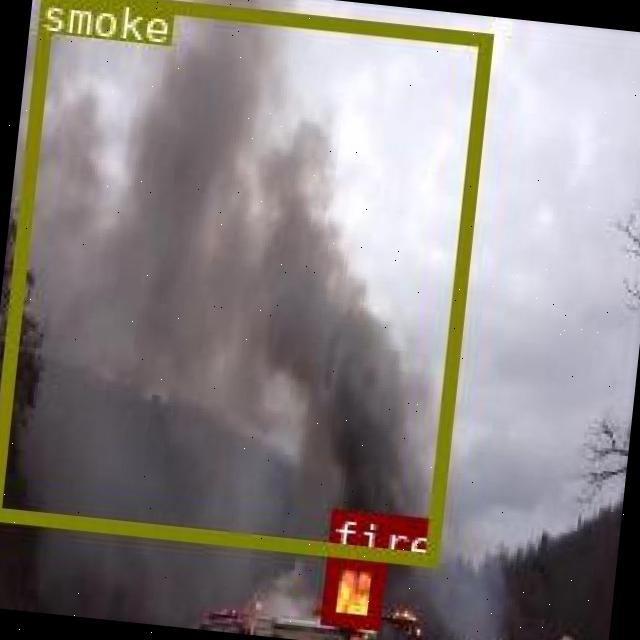fire: (319, 551, 382, 626)
smoke: (0, 0, 490, 563)
